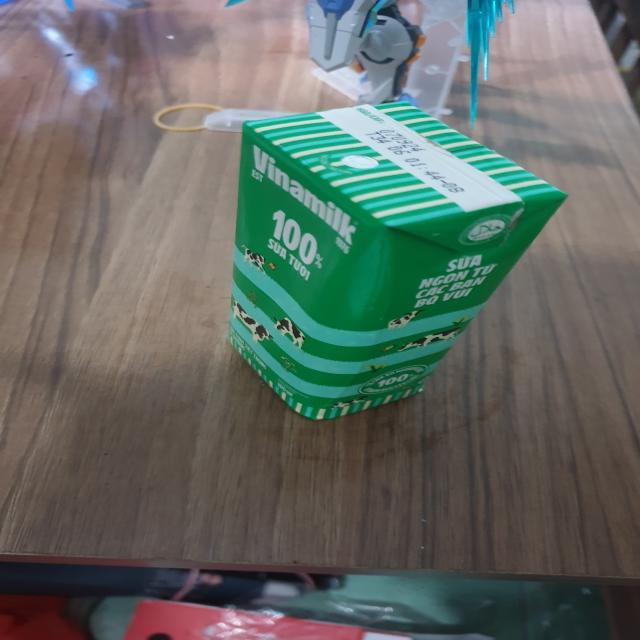Vina: (221, 100, 563, 422)
